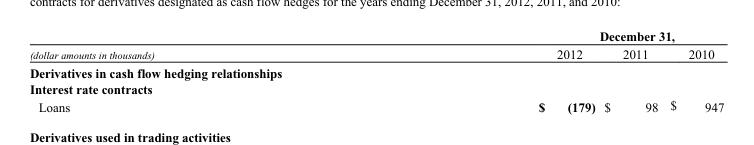table: (28, 28, 723, 114)
table column: (28, 28, 345, 114), (345, 28, 599, 114), (599, 28, 663, 114), (663, 28, 723, 114)
table column header: (28, 28, 723, 62)
table projected row header: (28, 62, 723, 80), (28, 80, 723, 97)
table row: (28, 44, 723, 62), (28, 62, 723, 80), (28, 80, 723, 97), (28, 97, 723, 114), (28, 28, 723, 44)
table spanning cell: (28, 28, 345, 62), (345, 28, 723, 44)
